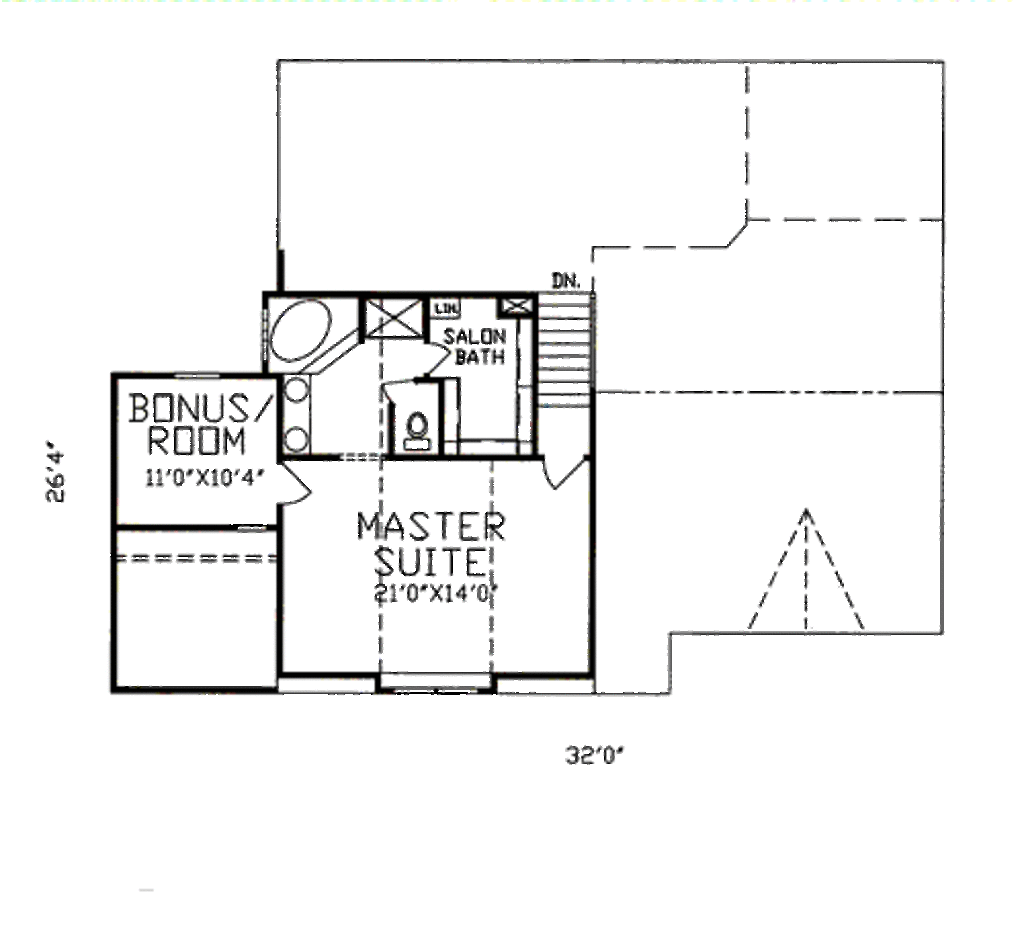door: (260, 461, 327, 521), (533, 449, 595, 499), (420, 338, 460, 385), (378, 374, 415, 407)
large_sink: (403, 401, 440, 465)
small_sink: (278, 369, 320, 451)
stairs: (528, 285, 598, 445)
tub: (274, 289, 344, 362)
window: (368, 664, 487, 701), (174, 367, 234, 389)
